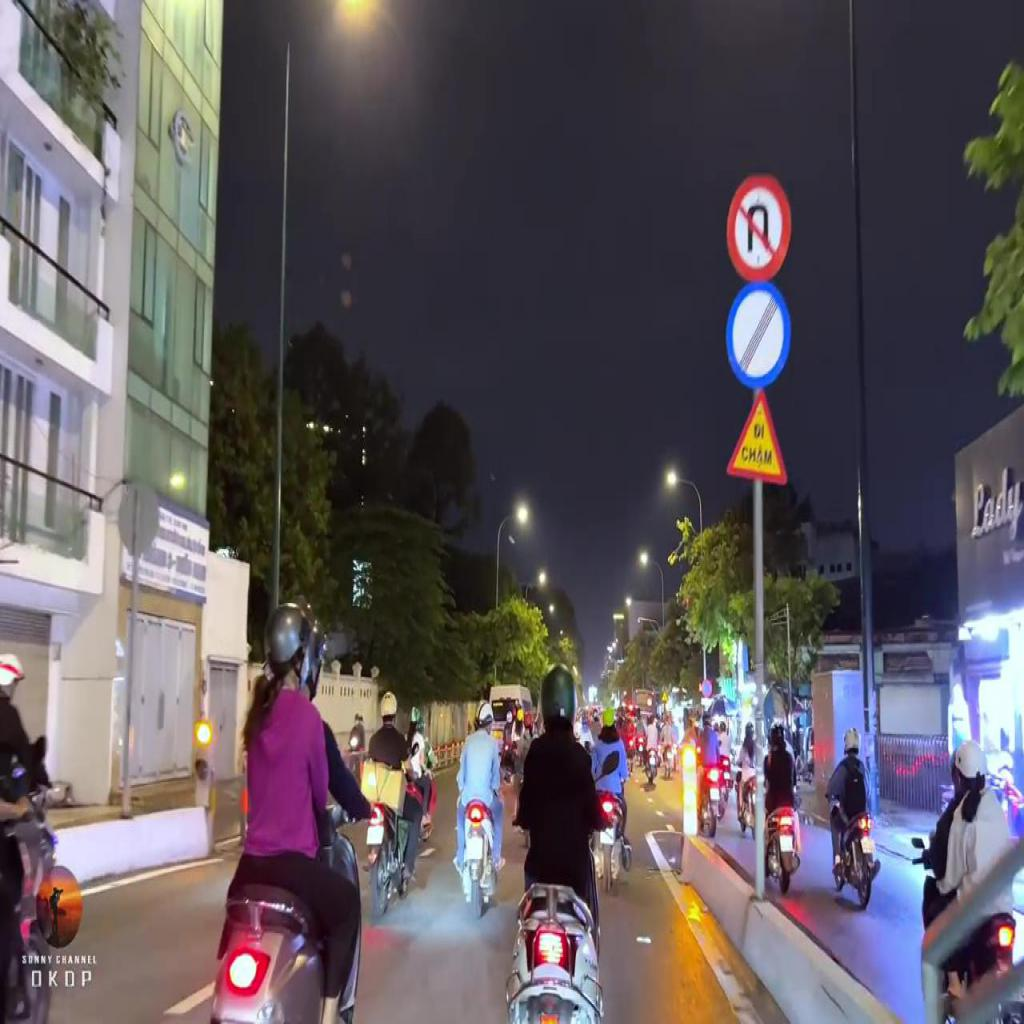cam_do_xe: (701, 678, 712, 698)
cam_quay_dau_xe: (726, 172, 792, 282)
di_cham: (726, 388, 788, 486)
khac: (726, 280, 790, 390)
